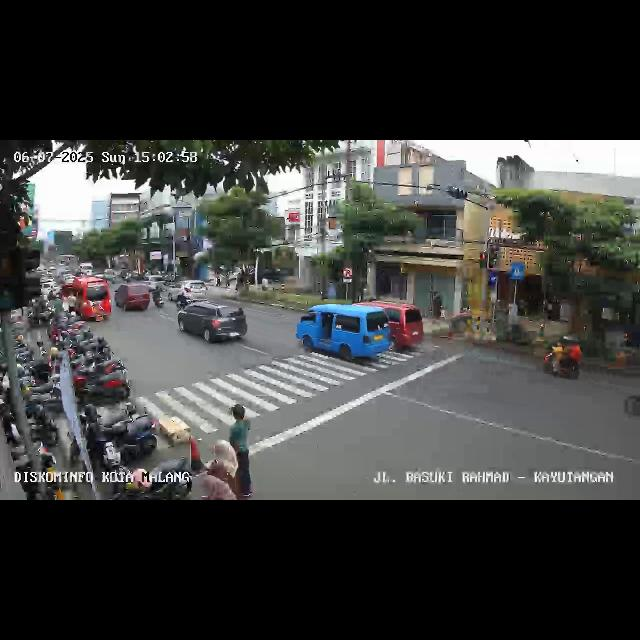car: (296, 302, 394, 366), (352, 300, 426, 354), (178, 300, 248, 346), (62, 276, 111, 324), (115, 282, 151, 314), (168, 280, 208, 304)
motorcycle: (602, 320, 640, 380), (541, 328, 583, 382), (153, 283, 165, 309)
person: (226, 402, 254, 491), (207, 438, 246, 499)
